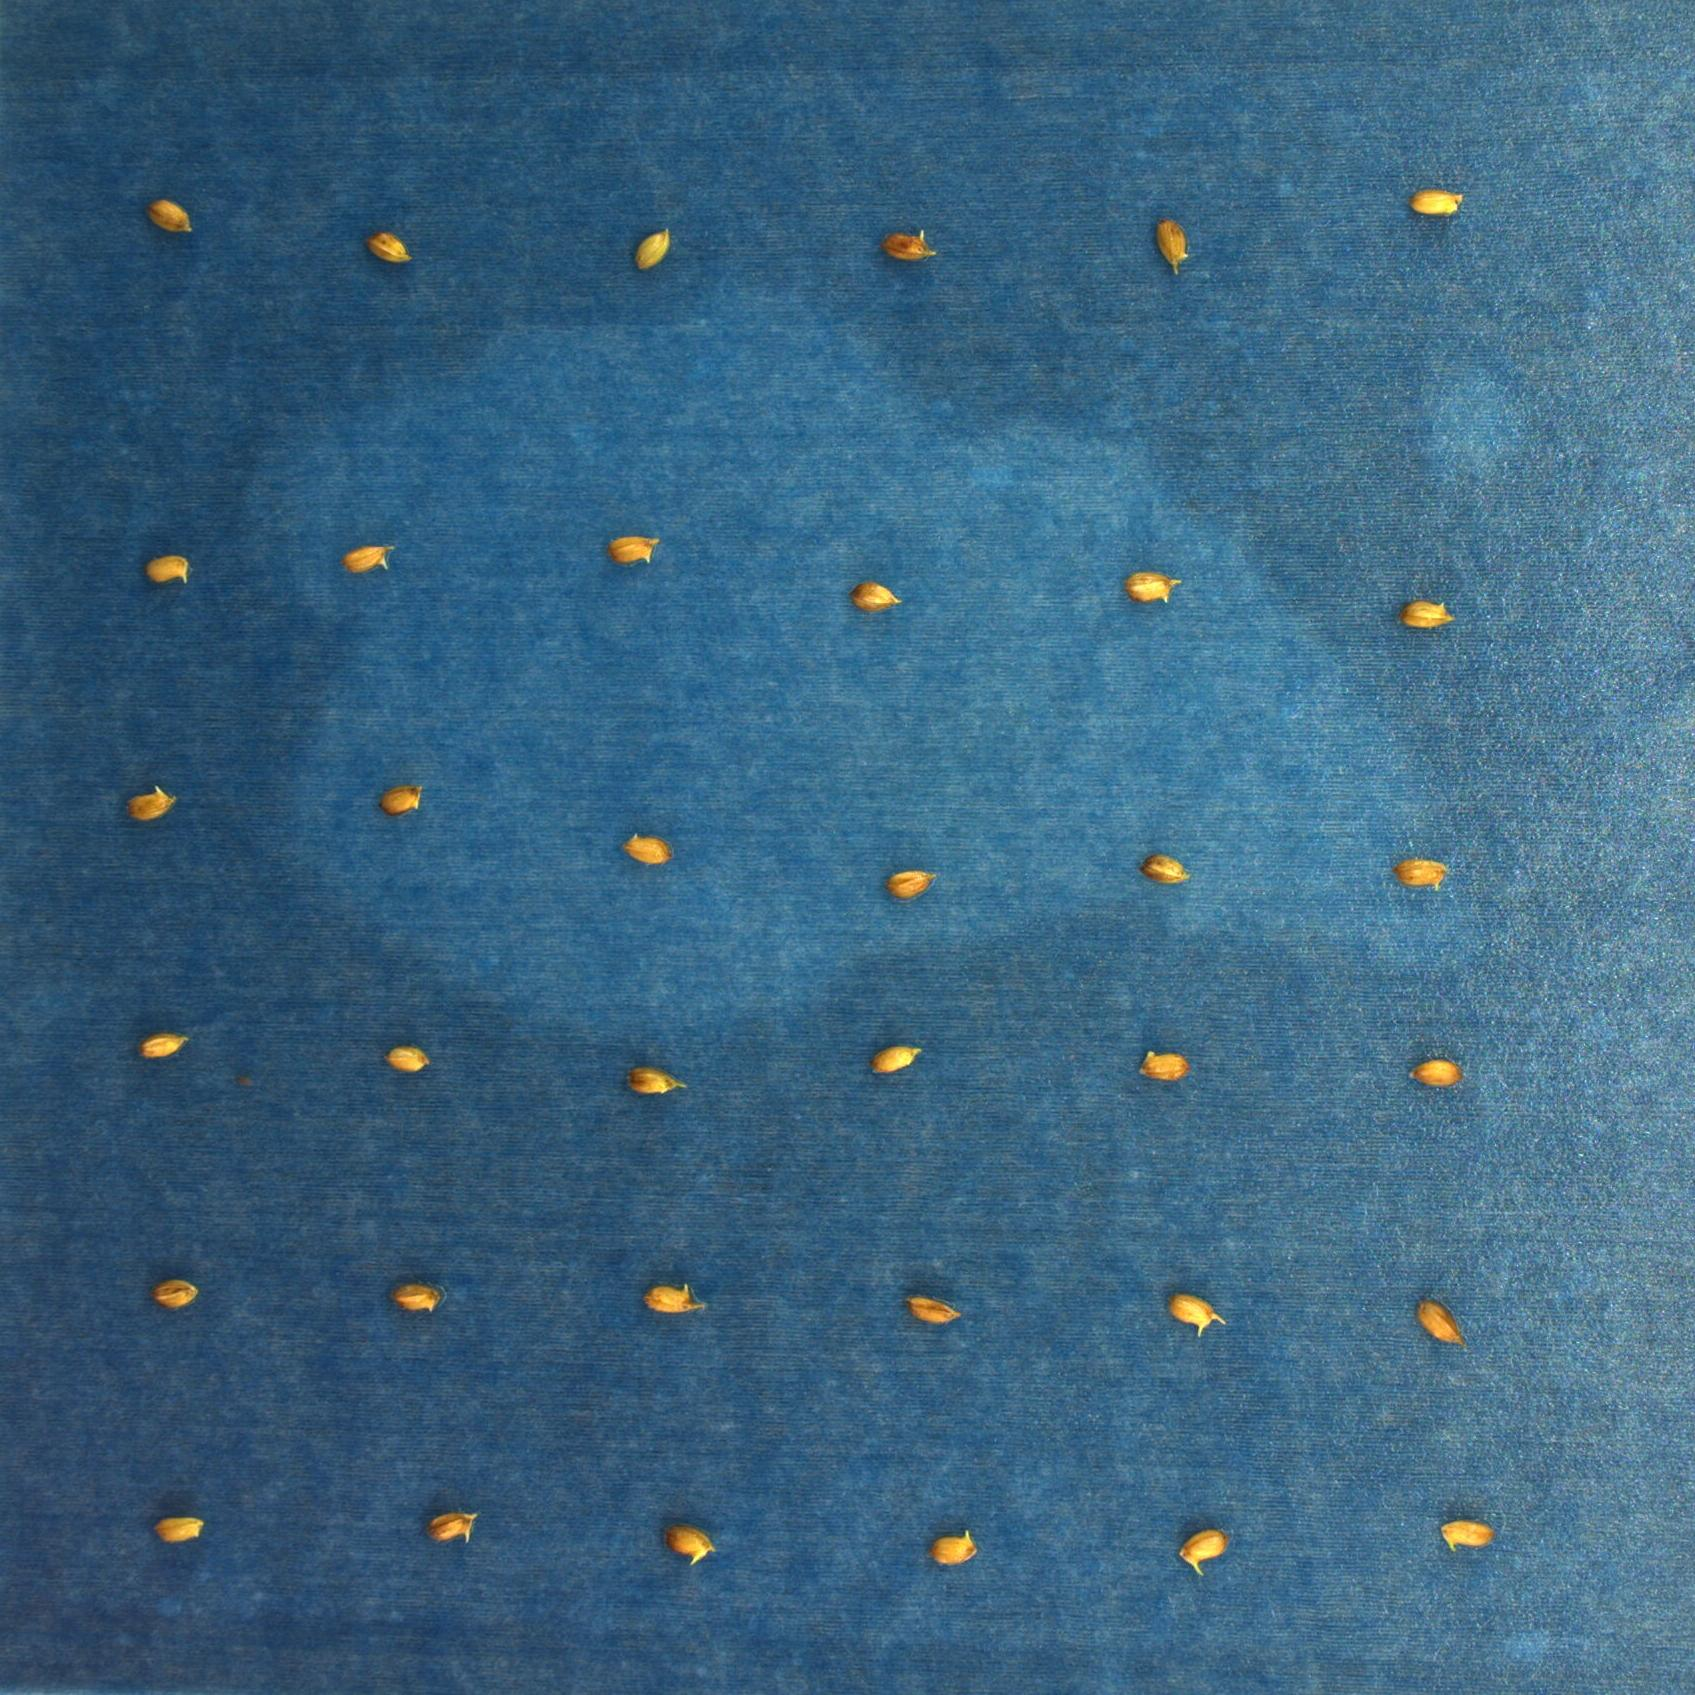not sprout: (1169, 1516, 1246, 1583), (1147, 200, 1200, 289), (660, 1512, 731, 1575), (1108, 563, 1191, 616), (1166, 1285, 1231, 1346), (1386, 844, 1458, 899), (126, 1024, 202, 1073), (841, 565, 910, 618), (911, 1527, 986, 1575), (1411, 1288, 1461, 1360), (422, 1499, 494, 1548), (1127, 1043, 1198, 1087), (1405, 182, 1473, 227), (643, 1281, 719, 1321), (137, 540, 200, 588), (629, 217, 680, 276), (879, 854, 938, 903), (627, 1062, 702, 1101), (880, 220, 944, 265), (1437, 1509, 1498, 1555), (1405, 587, 1458, 640), (601, 523, 664, 567), (1138, 843, 1197, 889), (140, 194, 197, 237), (124, 782, 182, 826), (866, 1035, 924, 1077), (386, 1032, 433, 1083), (154, 1510, 213, 1551), (1406, 1054, 1464, 1094), (615, 829, 669, 868), (147, 1274, 203, 1312), (377, 776, 428, 816), (340, 542, 397, 577), (903, 1296, 965, 1329), (366, 225, 414, 267), (394, 1276, 442, 1316)
